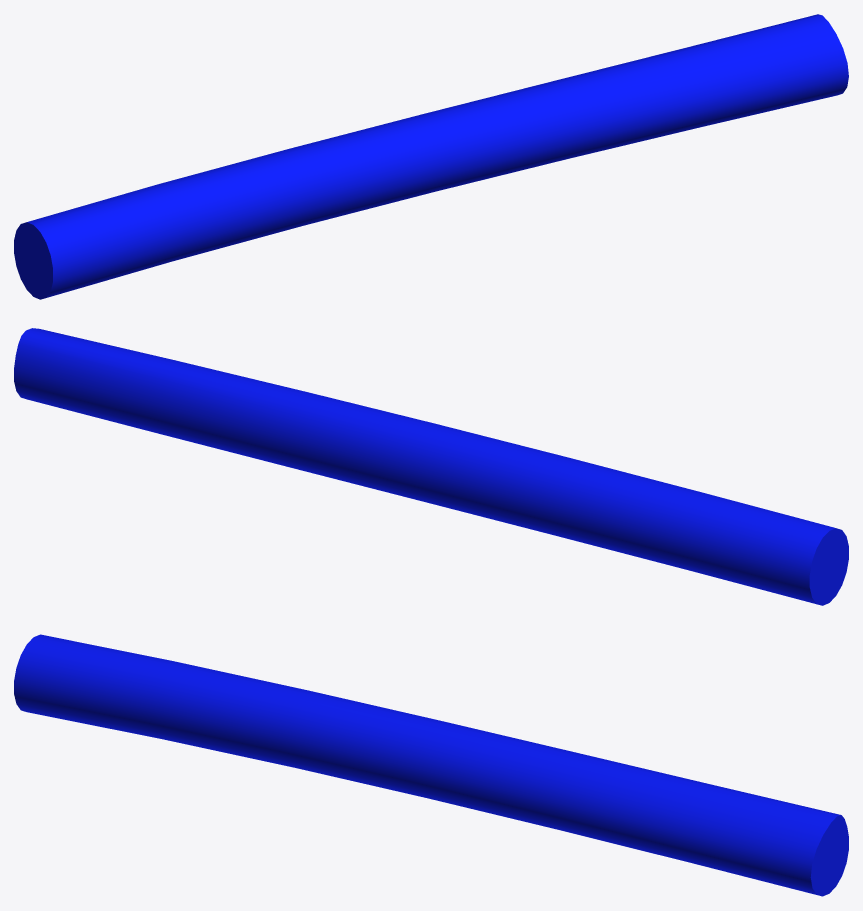
File: wood_04.FBX
3 renders of one model, top to bottom at view 1: azimuth 30°, elevation 25°; view 2: azimuth 150°, elevation 25°; view 3: azimuth 330°, elevation 25°, orthographic.
Visible parts, largest first — view 1: wood_02_LP; view 2: wood_02_LP; view 3: wood_02_LP.
Part boxes in pixels (box(x1,y1,x2,y2)): wood_02_LP: box(14, 14, 848, 299); wood_02_LP: box(14, 328, 848, 605); wood_02_LP: box(14, 634, 848, 896).
Size of the model in its own units: 250 by 24.81 by 22.53.
